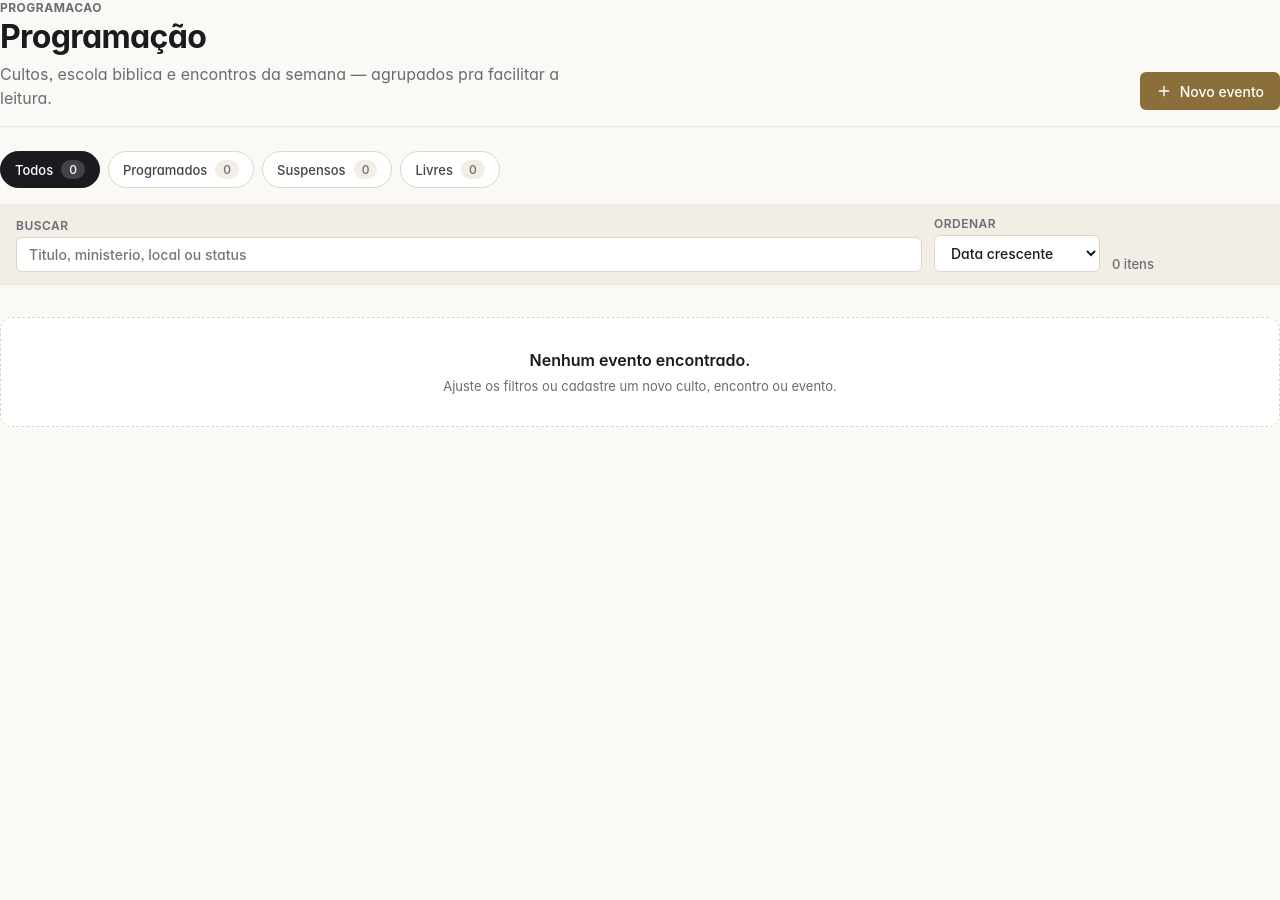
Test case: ScheduleView form › renders inline errors when required fields are empty
Click the button "Novo evento" at (1210,91), box [1140,72,1279,110]
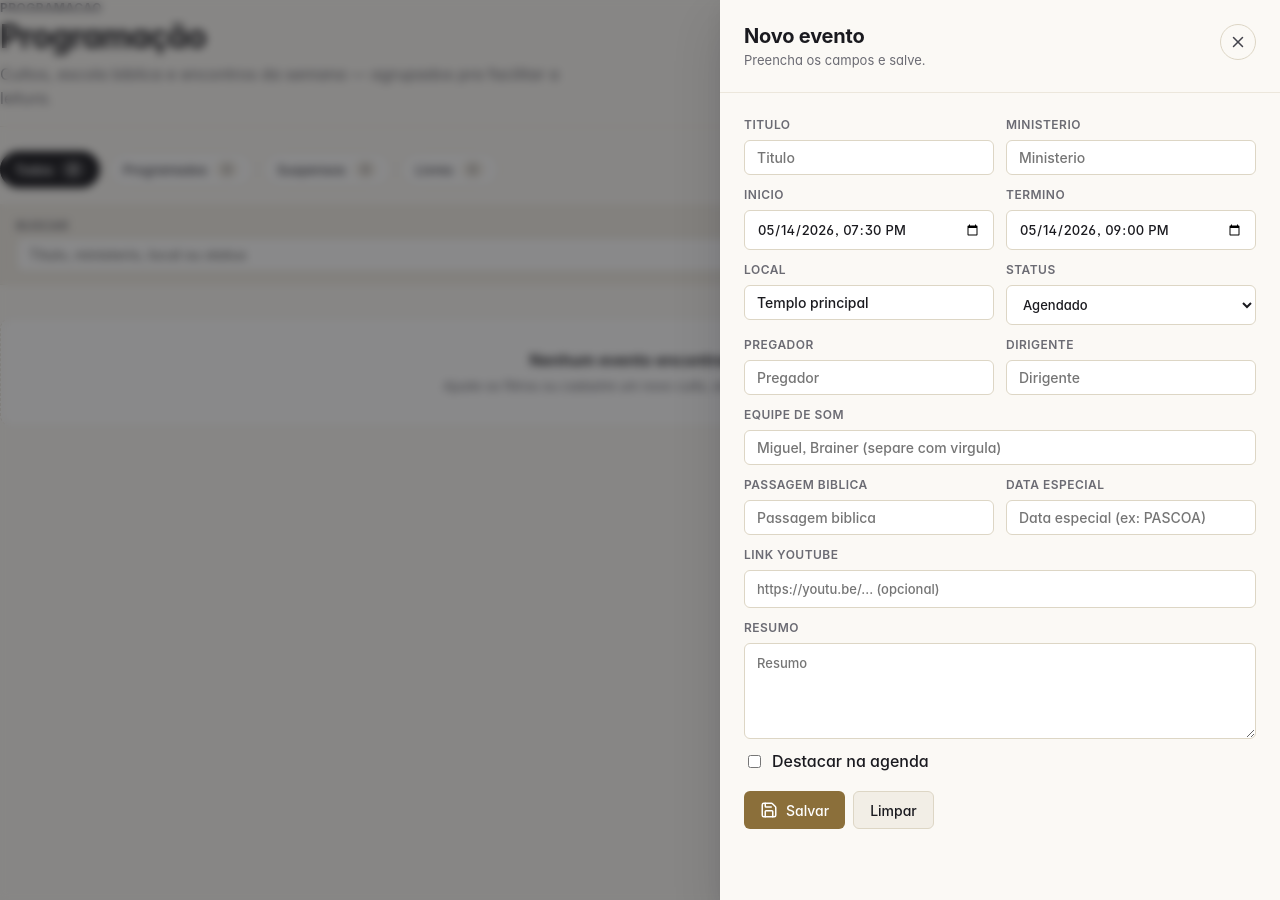
Submit the form named "salvar", box [744,117,1256,829]
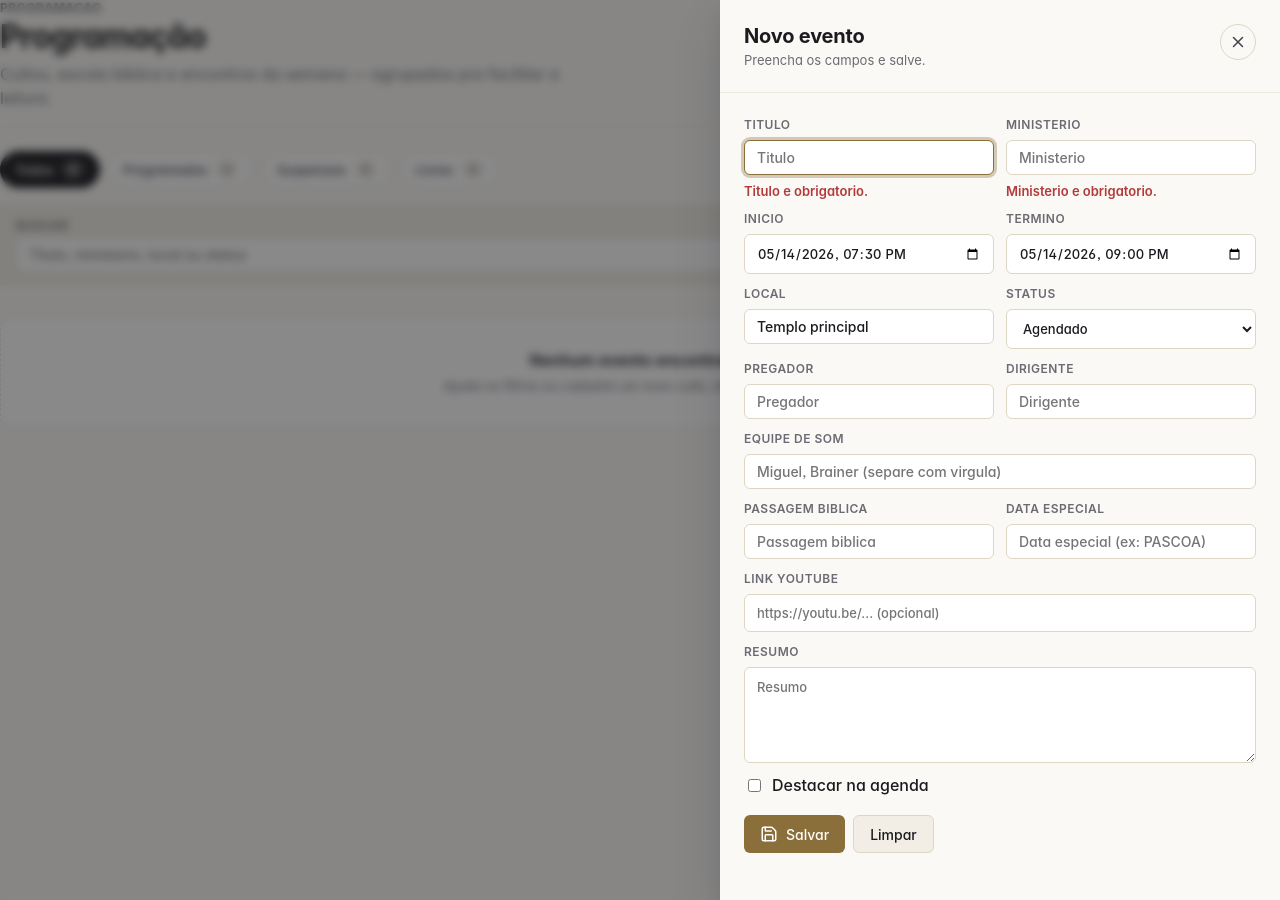
Expected: the text "Titulo e obrigatorio." is shown, [744,183,868,199]
Expected: the text "Ministerio e obrigatorio." is shown, [1006,183,1157,199]
